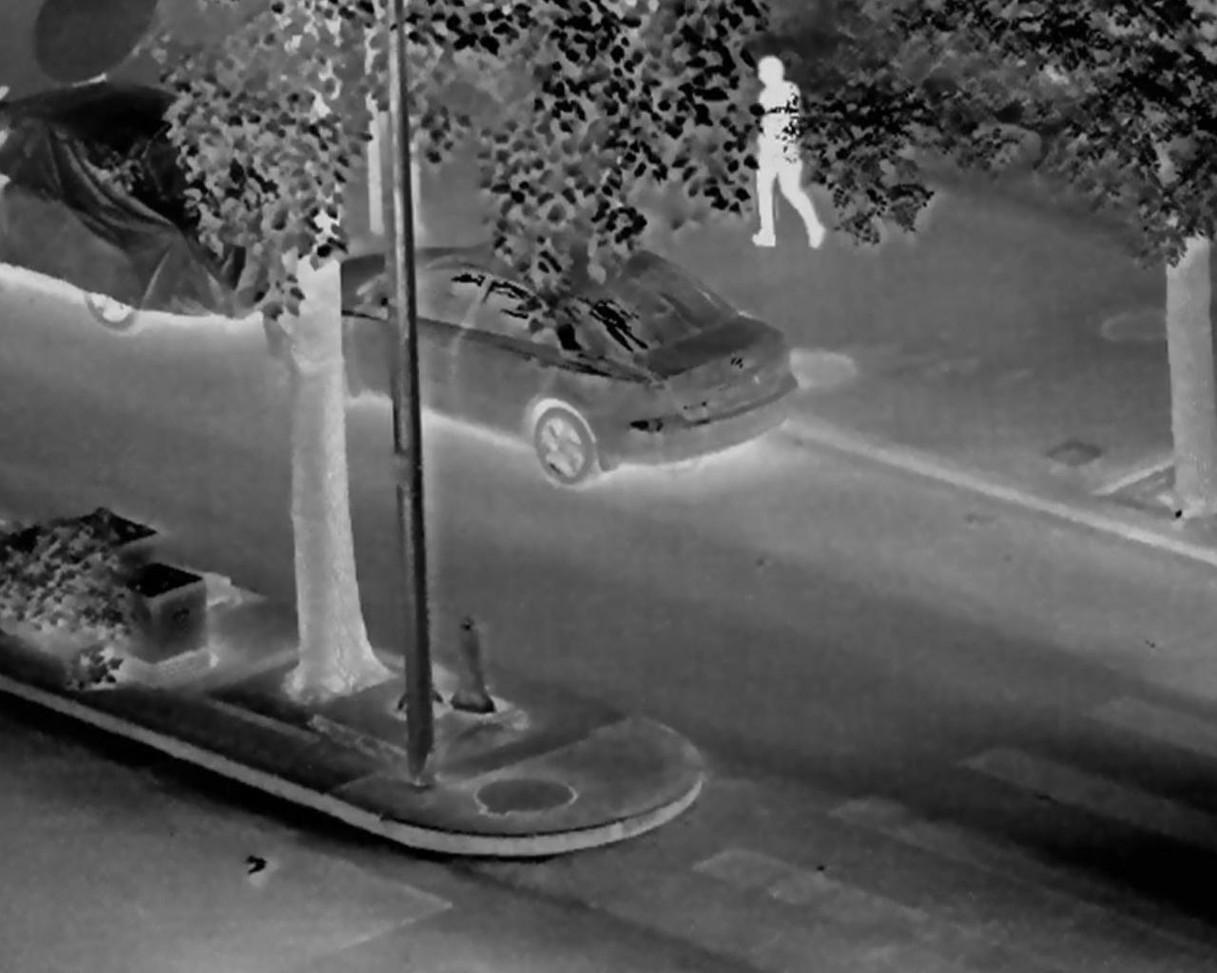person: (744, 54, 825, 250)
